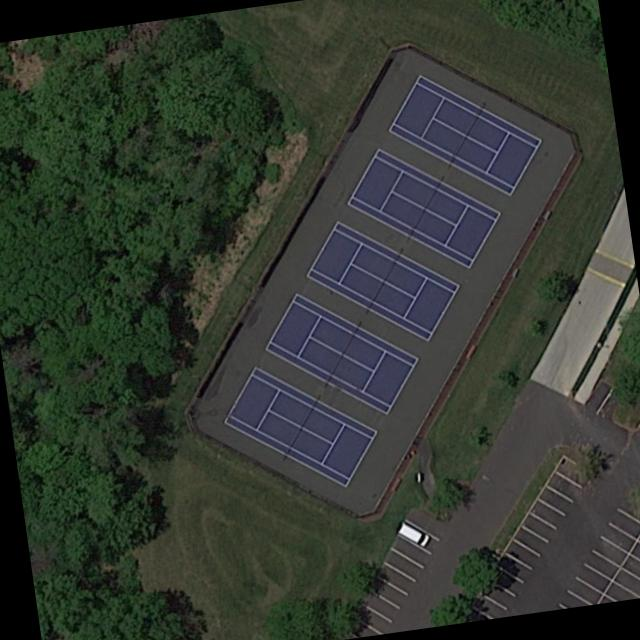large-vehicle: (394, 522, 431, 546)
